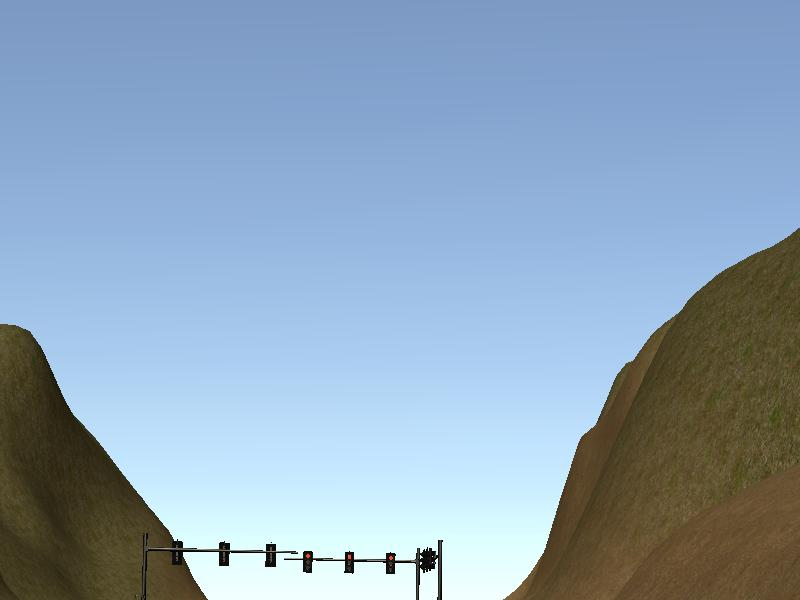Red: (385, 551, 395, 575), (345, 550, 353, 574), (303, 551, 312, 571)
